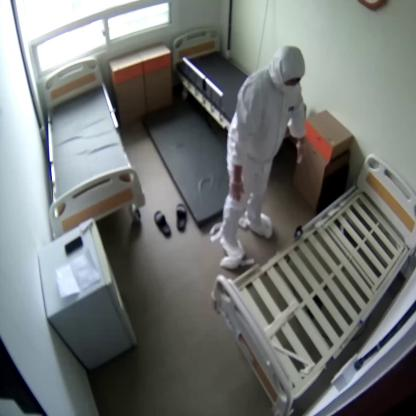Person: (220, 47, 306, 262)
